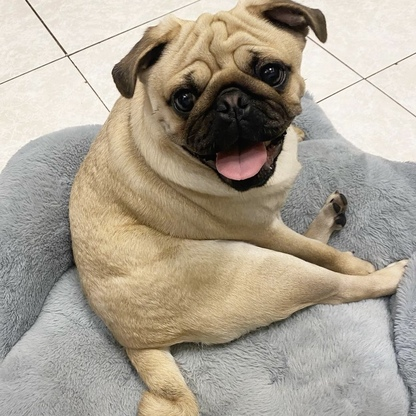Pug: (58, 1, 412, 416)
